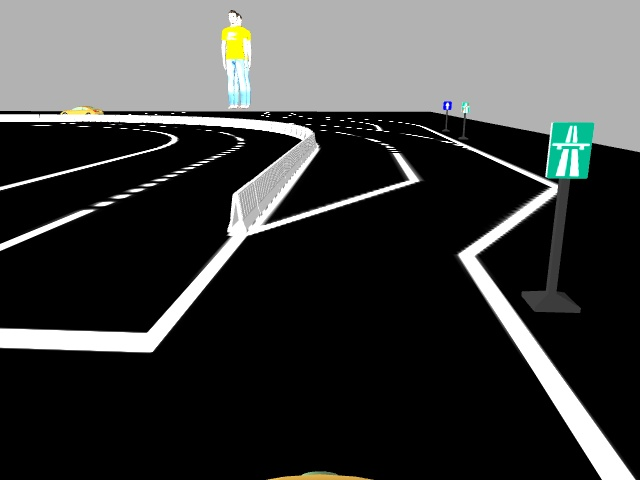HighwayEntrance: (547, 120, 590, 178)
